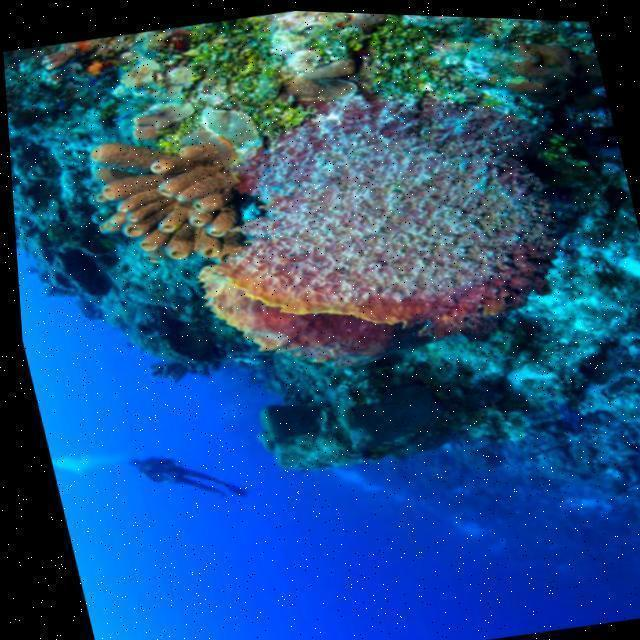Healthy Coral: (28, 1, 618, 428)
